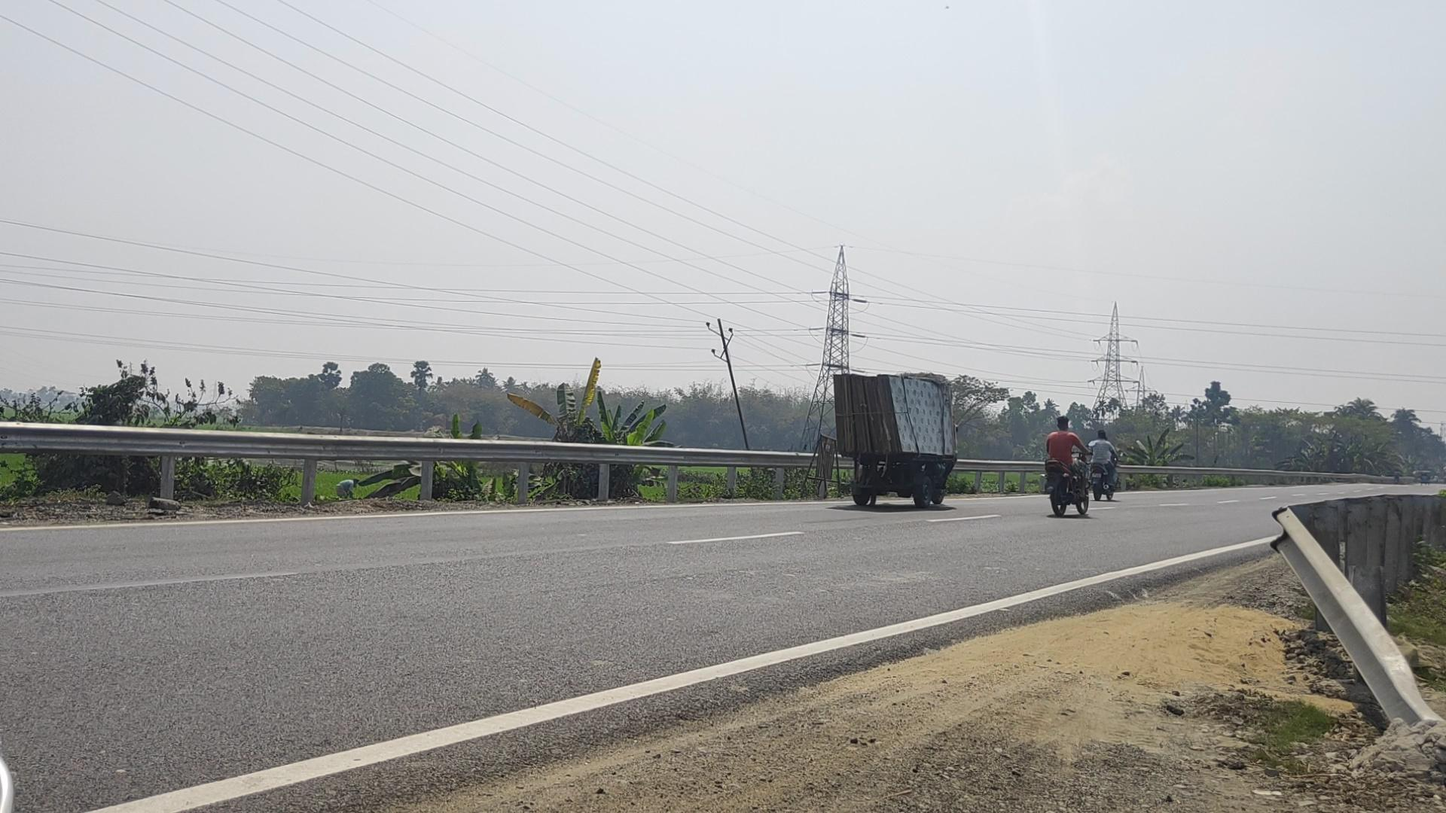bike: (1040, 416, 1094, 518), (1087, 430, 1120, 501)
